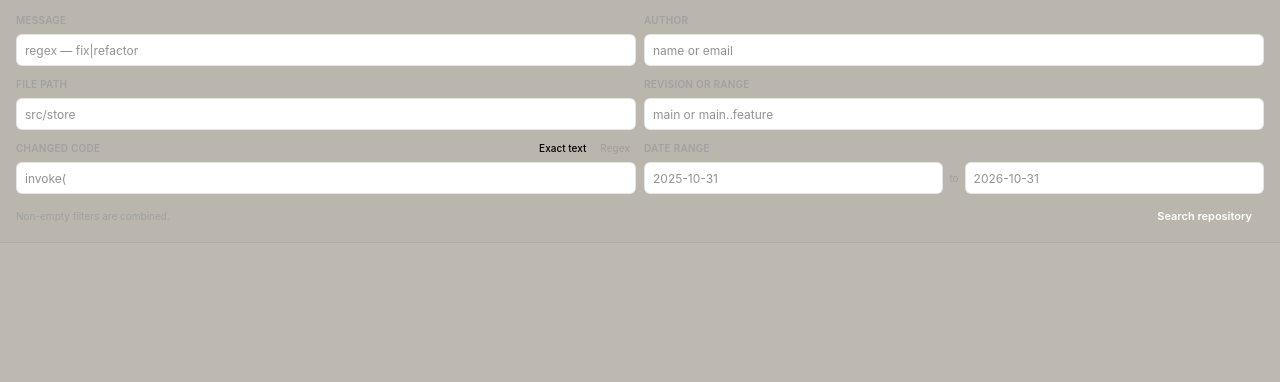
Test case: AdvancedHistorySearch async isolation › describes an empty work-bounded search as a partial scan
Type "fix" into the field with placeholder "regex — fix|refactor" at (326, 50), box [16,34,636,66]
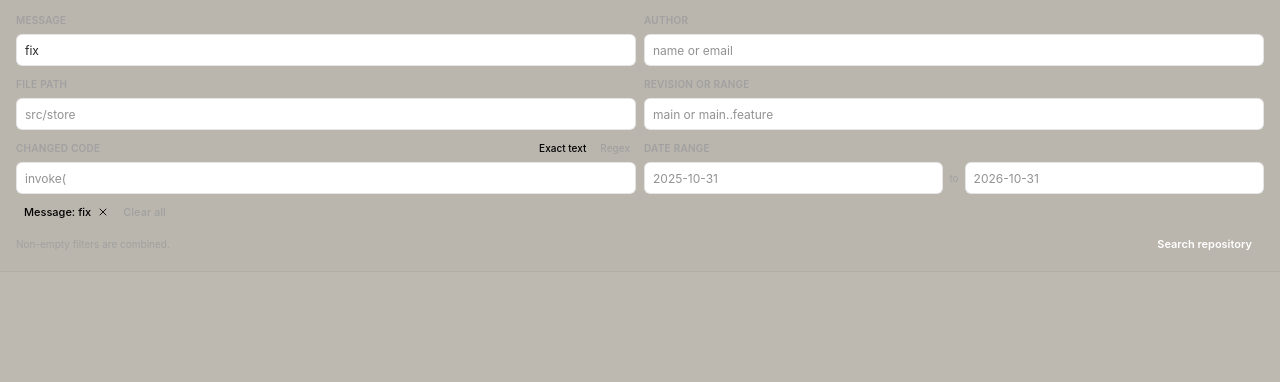
Click the button "Search repository" at (1205, 244), box [1145,230,1264,258]
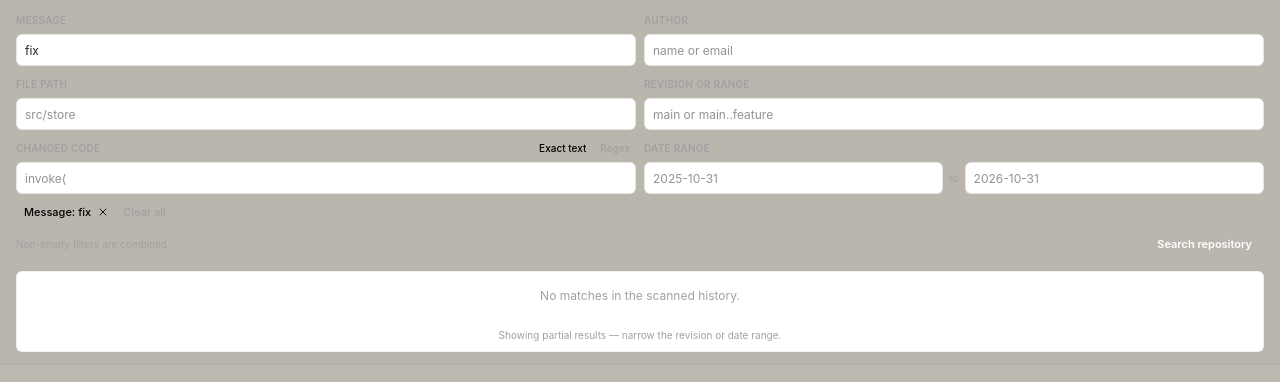
expect the text "No matches in the scanned history." is shown: met, box [540,288,740,302]
